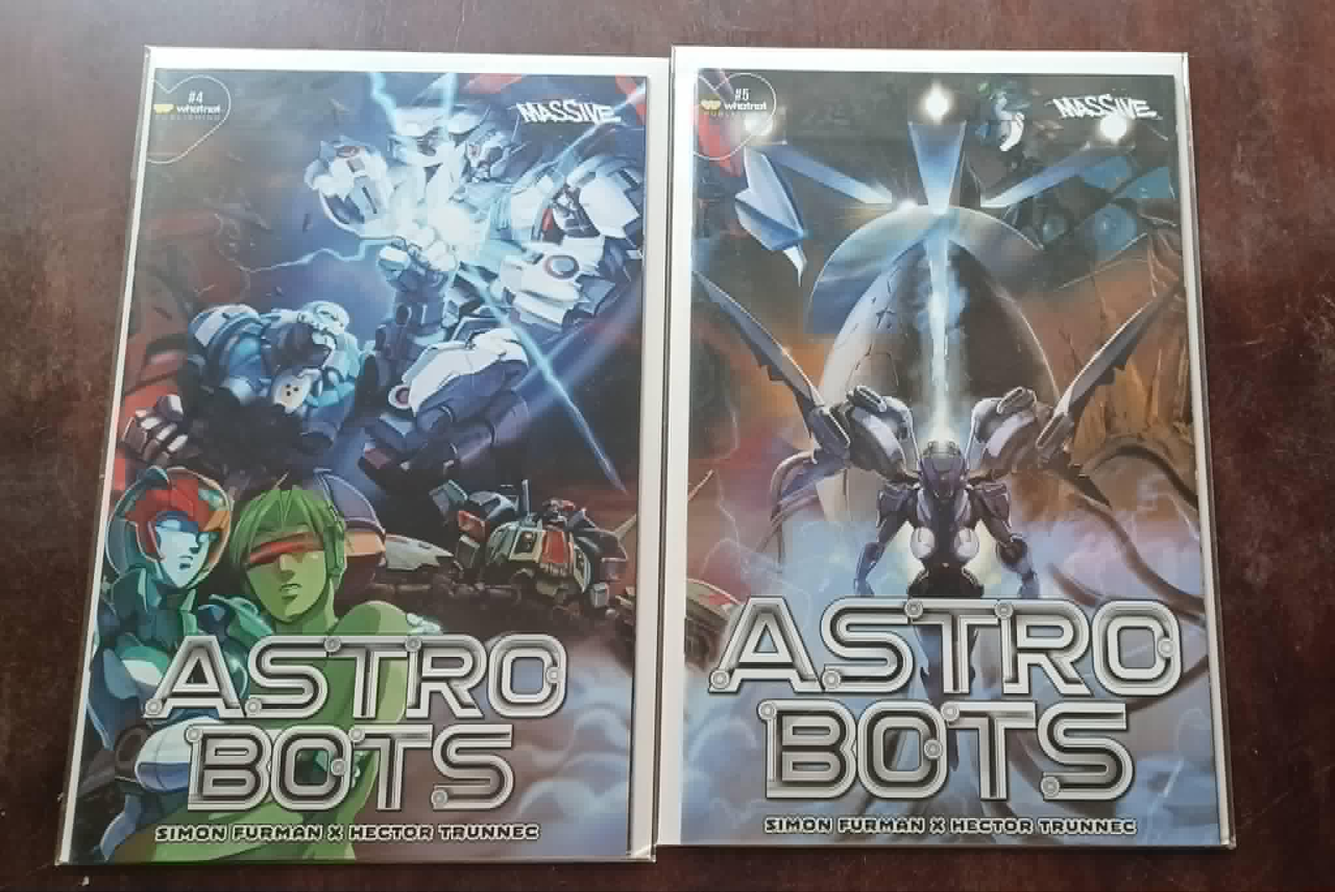comic: (58, 45, 672, 876), (660, 48, 1236, 846)
